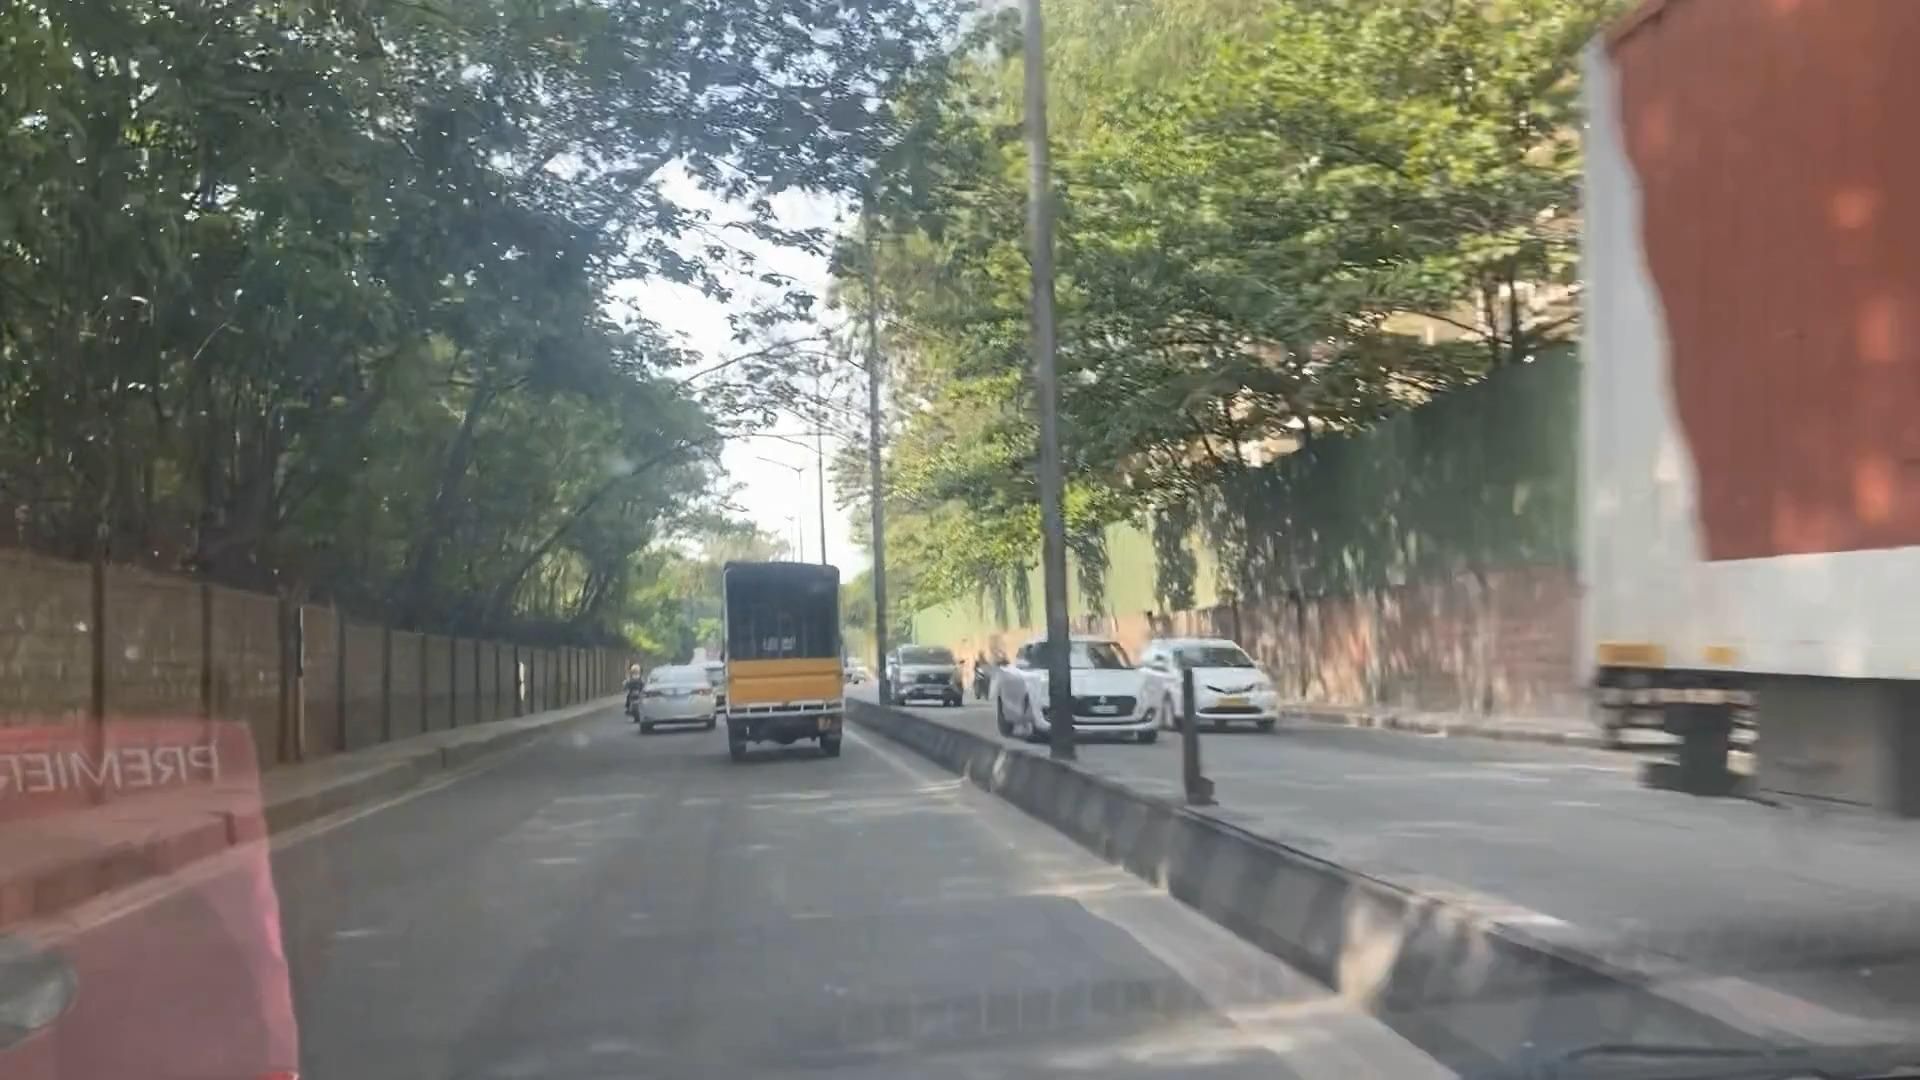HMV: (1505, 0, 1920, 927), (698, 547, 844, 761)
